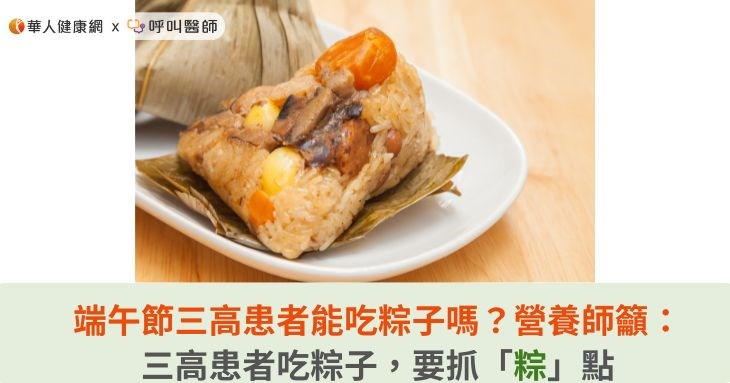zongzi: (177, 29, 434, 258), (135, 0, 324, 124)
